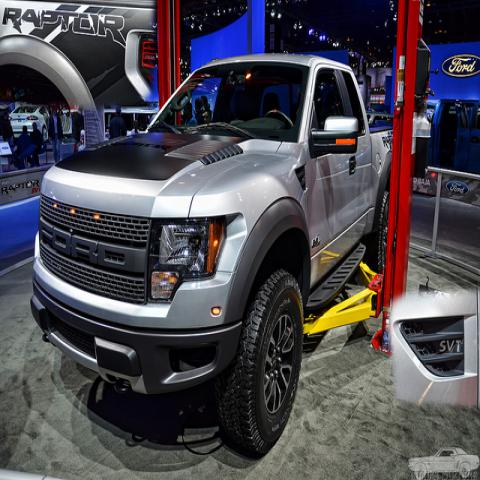car: (8, 105, 50, 142)
truck: (28, 61, 389, 465)
